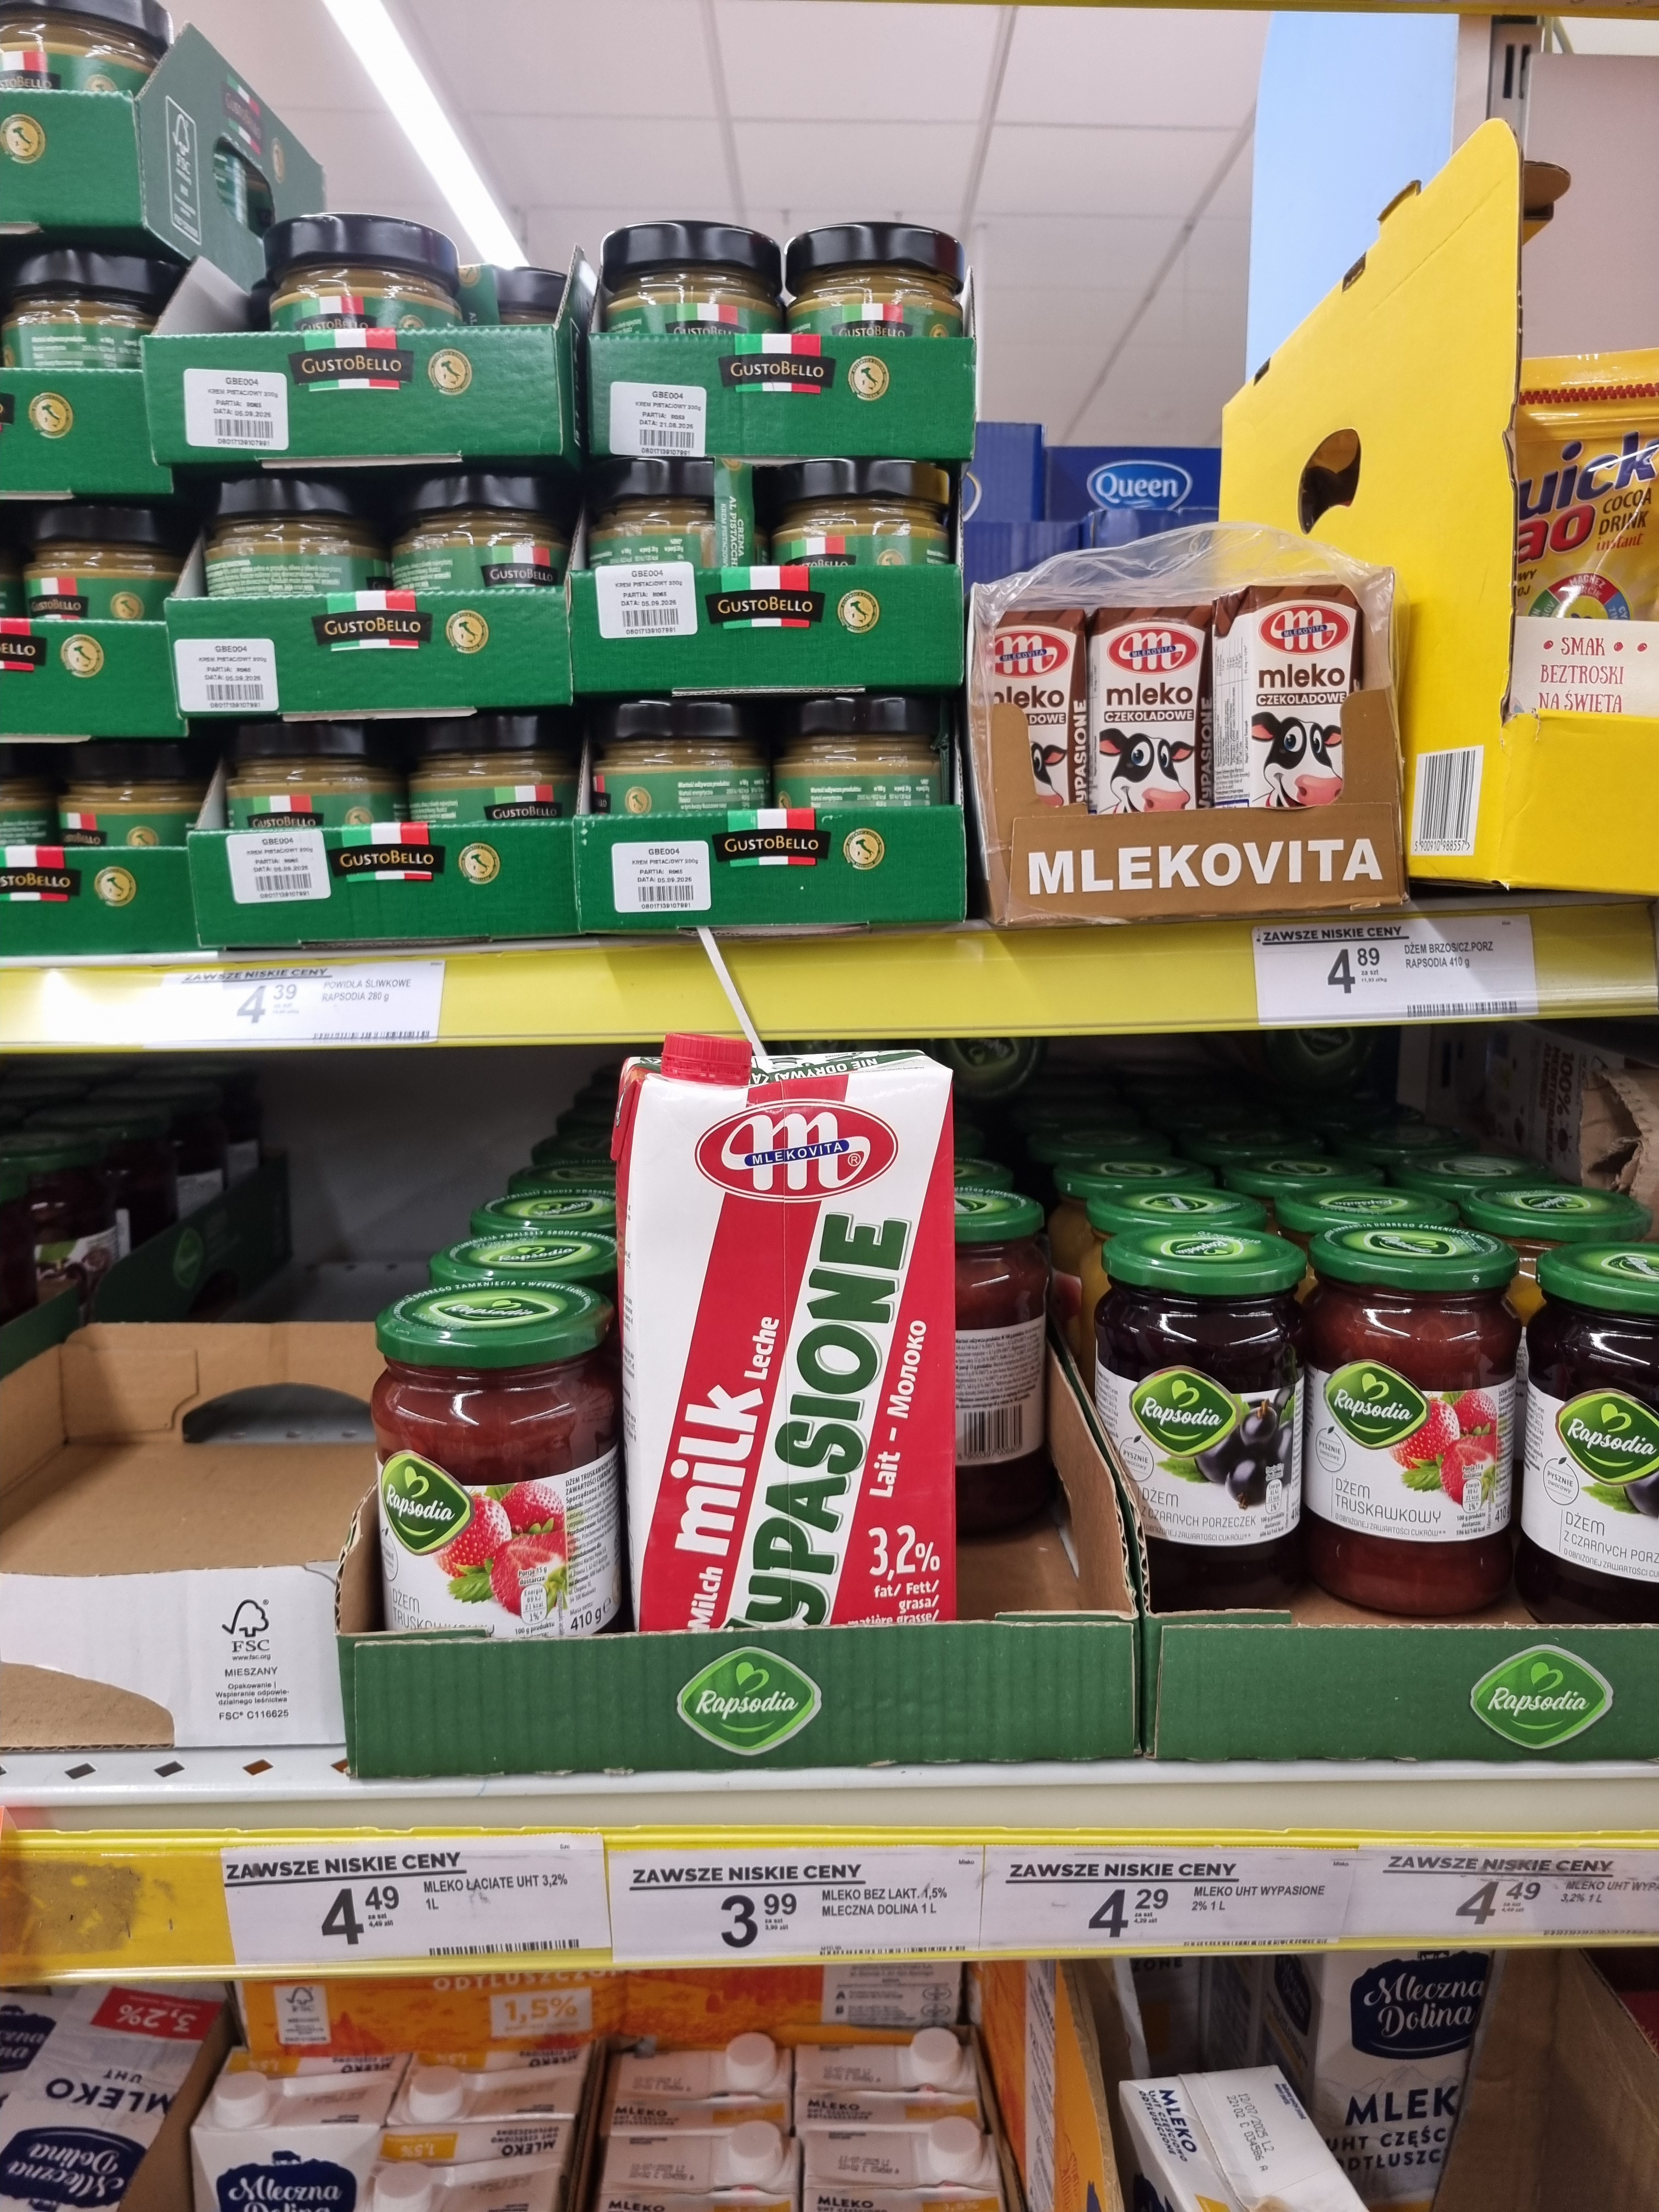Milk: (612, 1040, 972, 1625)
